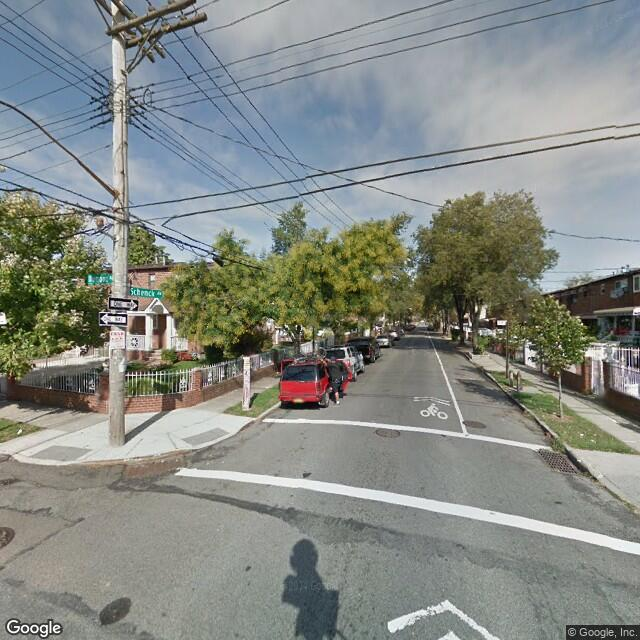litter: (594, 473, 605, 478), (551, 411, 561, 416), (574, 458, 587, 461), (15, 429, 21, 434), (578, 430, 583, 434), (591, 440, 596, 443)
